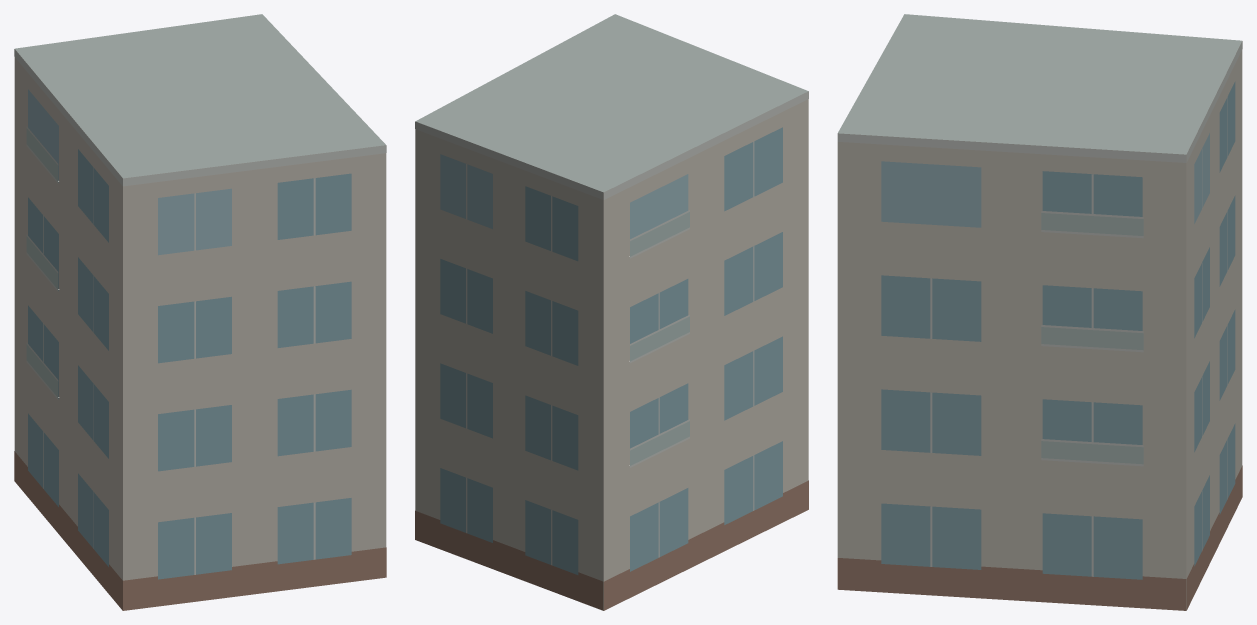
Rendered from survey-upis-32972161.glb.
3 views of the same model, side by side, from view 1: azimuth 30°, elevation 25°; view 2: azimuth 150°, elevation 25°; view 3: azimuth 270°, elevation 25° (orthographic). The views are drawn at different scales.
Visible parts, largest first — view 1: survey-upis-32972161.tmp; view 2: survey-upis-32972161.tmp; view 3: survey-upis-32972161.tmp.
Part boxes in pixels (bbox=[...]): survey-upis-32972161.tmp: bbox=[14, 14, 386, 610]; survey-upis-32972161.tmp: bbox=[415, 14, 808, 610]; survey-upis-32972161.tmp: bbox=[837, 14, 1242, 610].
Size of the model in its own units: 8.73 by 13.2 by 10.63.
